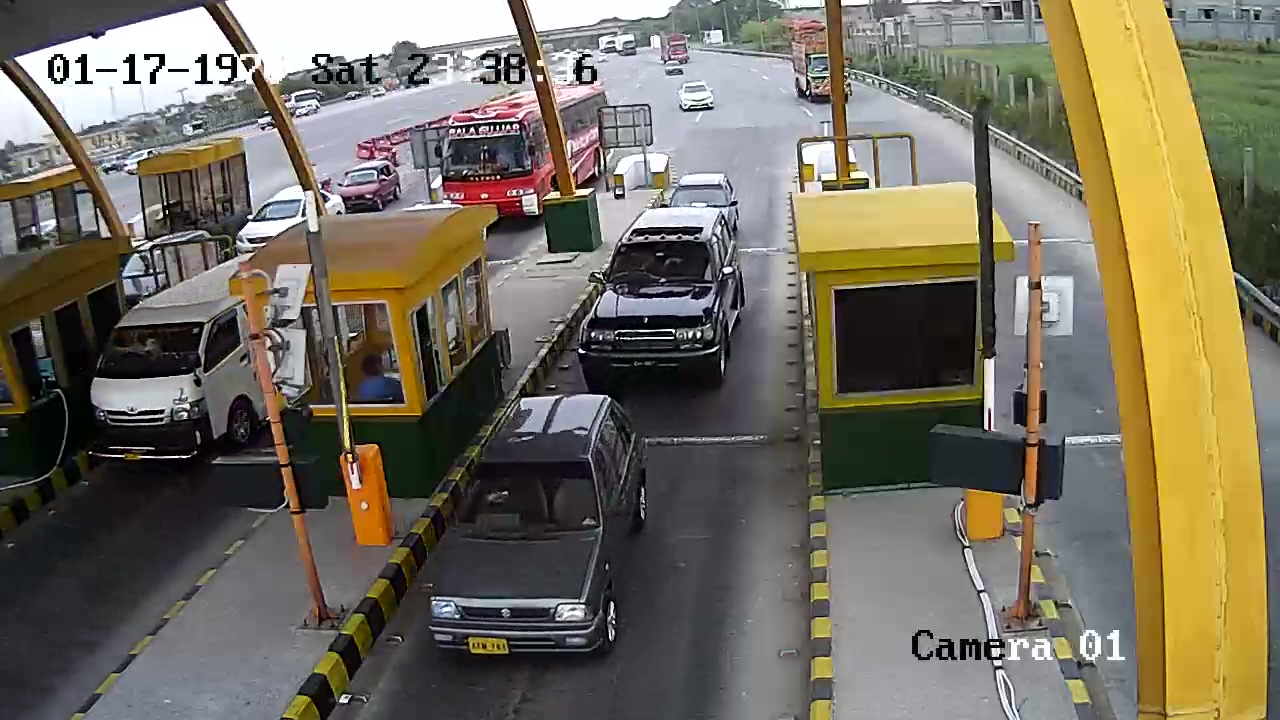F1: (421, 391, 665, 657), (576, 204, 755, 397)
